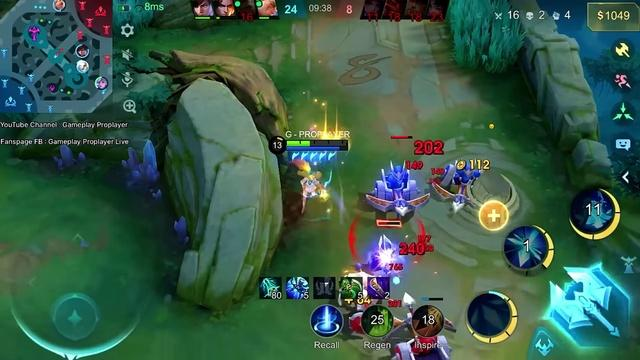Adc_Aliado: (95, 75, 108, 90)
Arbusto: (446, 0, 522, 72), (113, 0, 162, 37)
Esbirro_Aliado: (374, 299, 455, 360)
Esbirro_Enemigo: (365, 162, 429, 216), (373, 235, 398, 274)
Exp_Aliado: (50, 0, 67, 13)
HP_Heroe_Principal: (285, 141, 347, 146), (284, 147, 348, 151)
Lord_Mapa: (29, 26, 41, 41)
Mid_Aliado: (74, 43, 89, 58)
Minimapa: (0, 0, 113, 112)
Roamer_Aliado: (76, 59, 89, 73)
